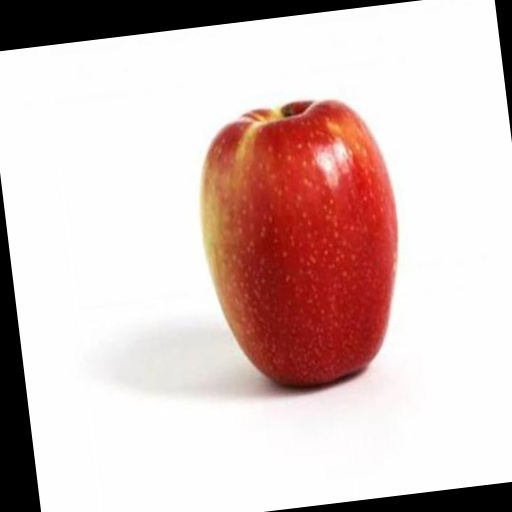fruit: (201, 101, 397, 385)
